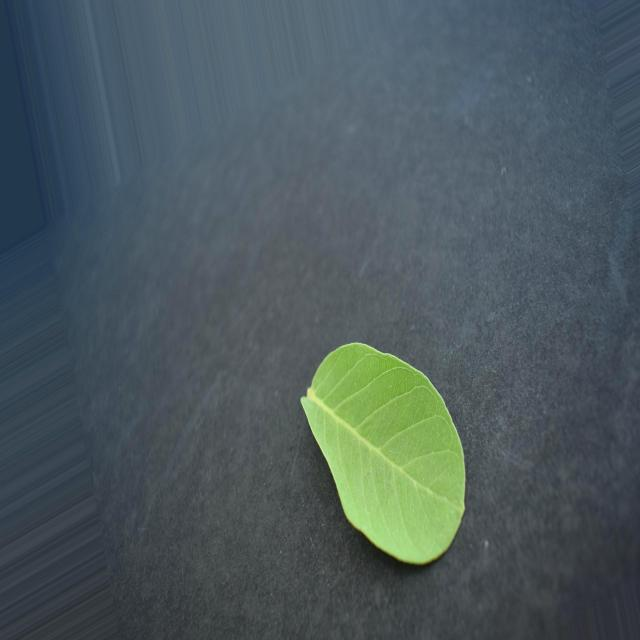Healthy: (301, 343, 465, 564)
